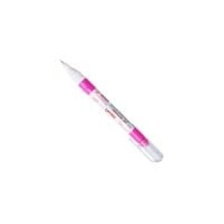correction_fluid: (53, 52, 164, 166)
